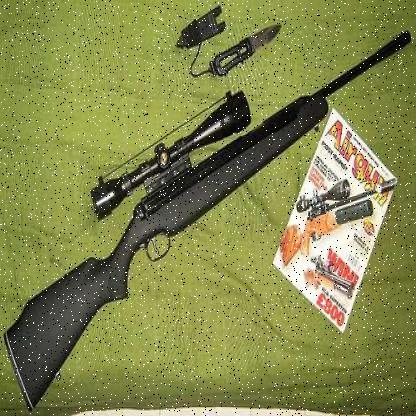rifle: (6, 19, 415, 410)
